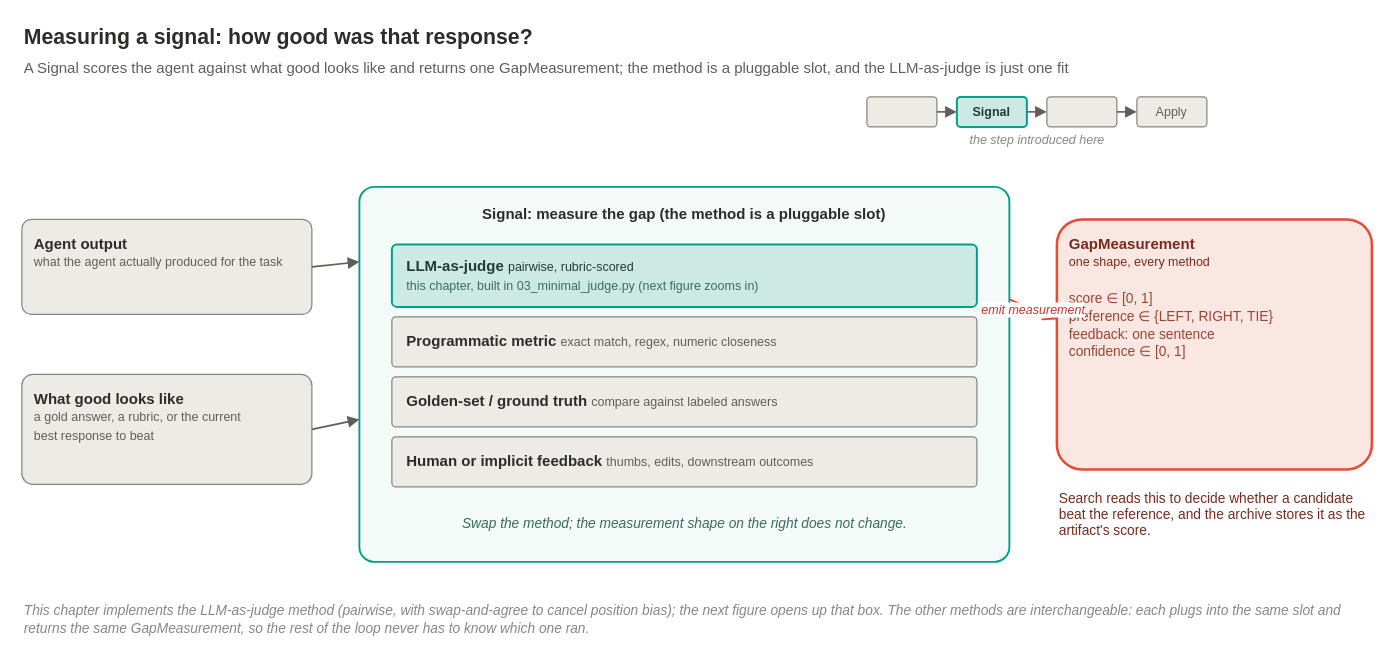
This 1395x668 diagram has some shape labels left out. The shapes that lost their labels are listed below. From the top down, each one's centre as x and y in pixels, then its label:
point (901, 111): Act
point (1081, 111): Search
